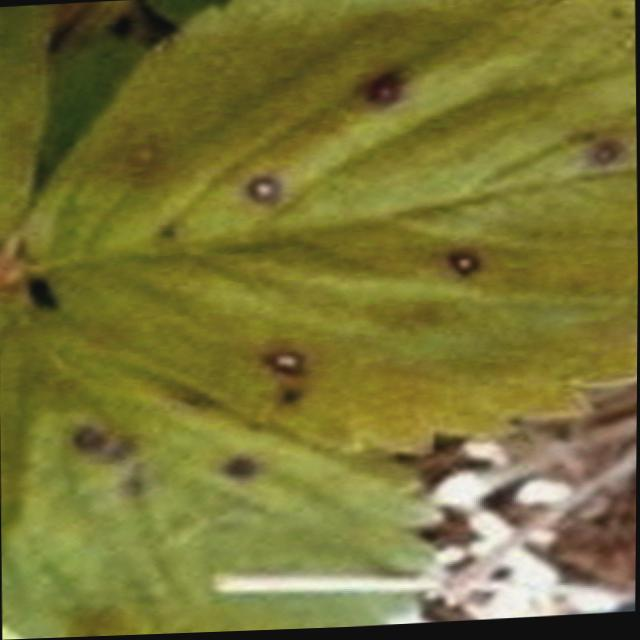Leaf Spot: (19, 0, 638, 461), (0, 287, 443, 639)
